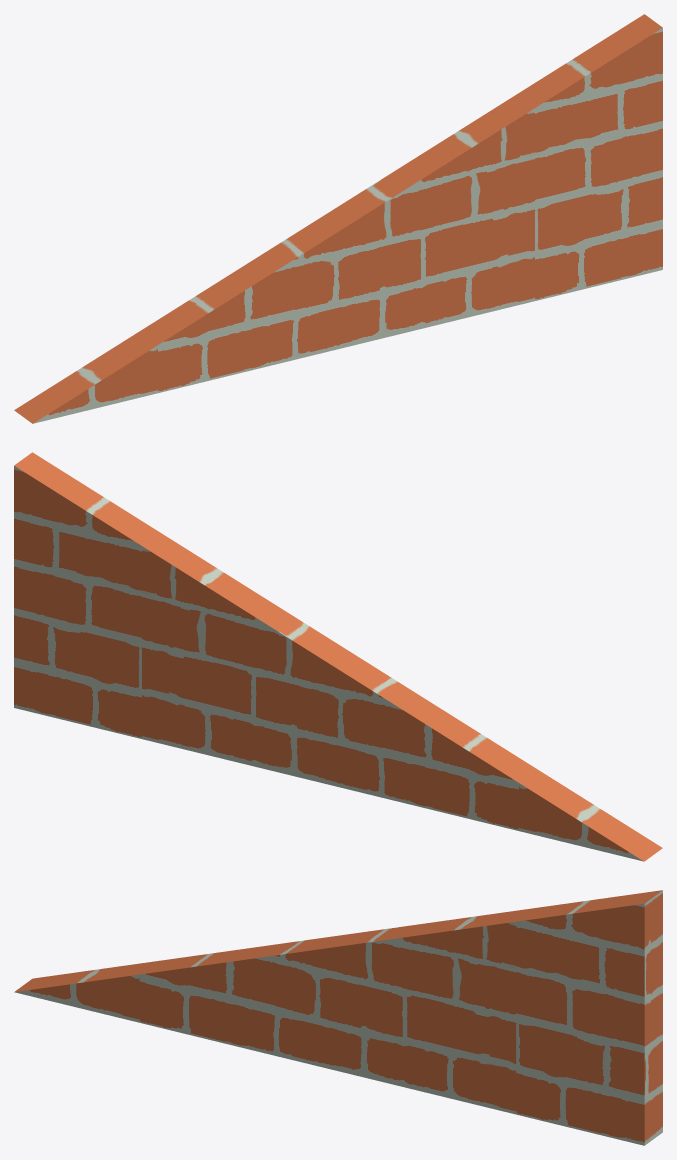
File: Brick_Wall_01.fbx
3 views of the same model, one above another, from view 1: azimuth 30°, elevation 25°; view 2: azimuth 150°, elevation 25°; view 3: azimuth 330°, elevation 25° (orthographic).
Visible parts, largest first — view 1: Brick_Wall_01; view 2: Brick_Wall_01; view 3: Brick_Wall_01.
Boxes of the visible parts, x1=… form: Brick_Wall_01: x1=14, y1=14, x2=662, y2=423; Brick_Wall_01: x1=14, y1=452, x2=662, y2=861; Brick_Wall_01: x1=14, y1=890, x2=662, y2=1145.
Size of the model in its own units: 395 by 145 by 20.19.
